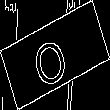O_N: (33, 23, 77, 87)
